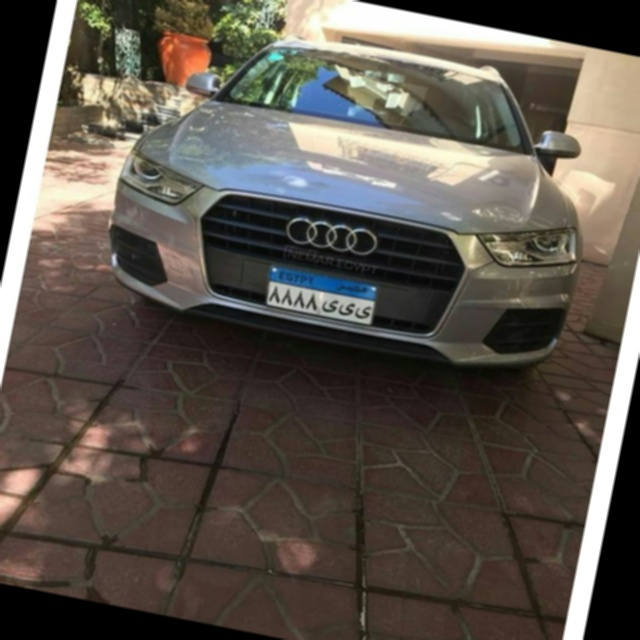License Plate: (260, 261, 384, 329)
